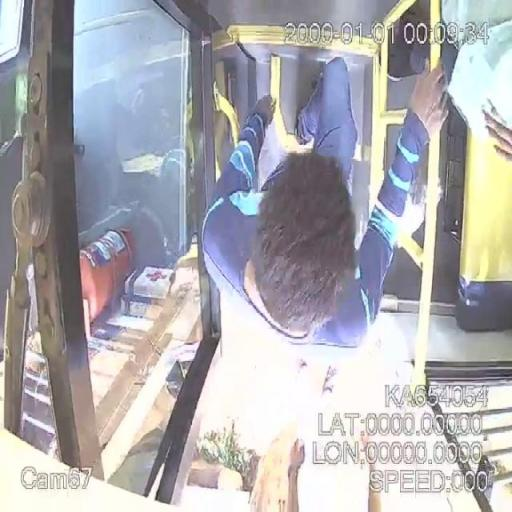persona: (200, 54, 451, 346), (282, 358, 386, 512)
